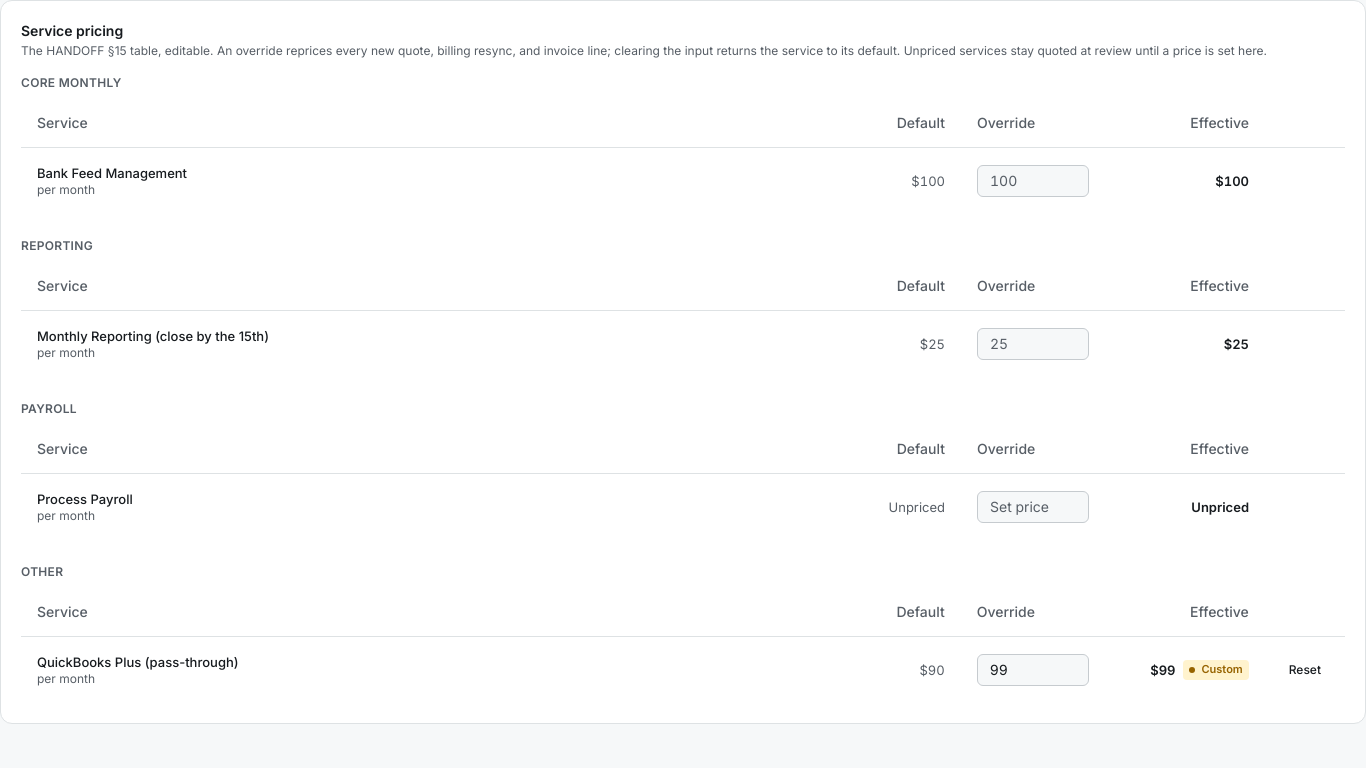
Test case: PricingTable › prices an unpriced service once an override is committed
Type "40" into the field named "Override price for Process Payroll". click: (1033, 507)
box: [977,491,1089,523]
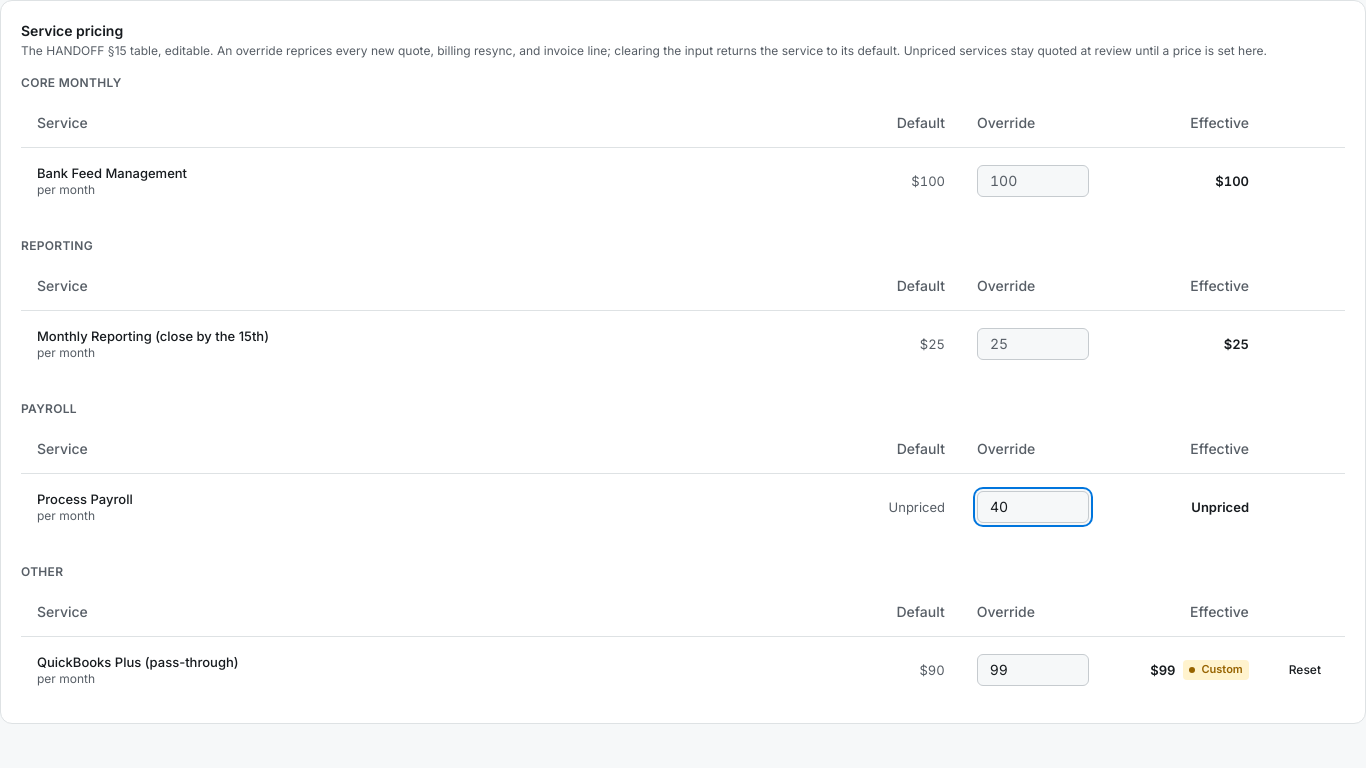
Press Tab
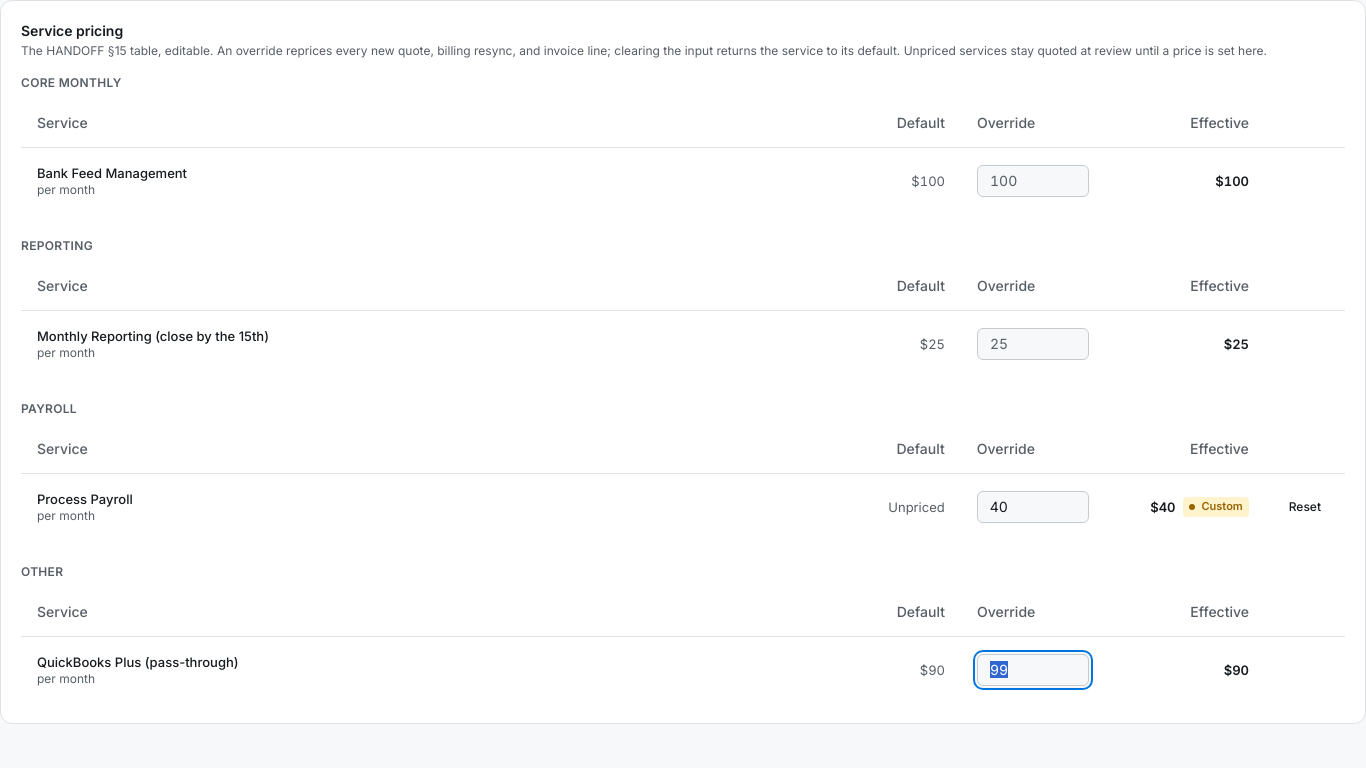
expect the row named "Override price for Process Payroll" shows "$40": met, box [1150,499,1176,515]
expect the row named "Override price for Process Payroll" shows "Custom": met, box [1202,499,1243,513]
